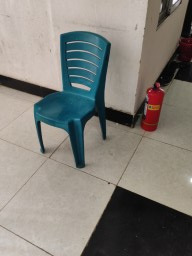fire_extinguisher: (61, 35, 99, 69), (28, 0, 47, 21)
